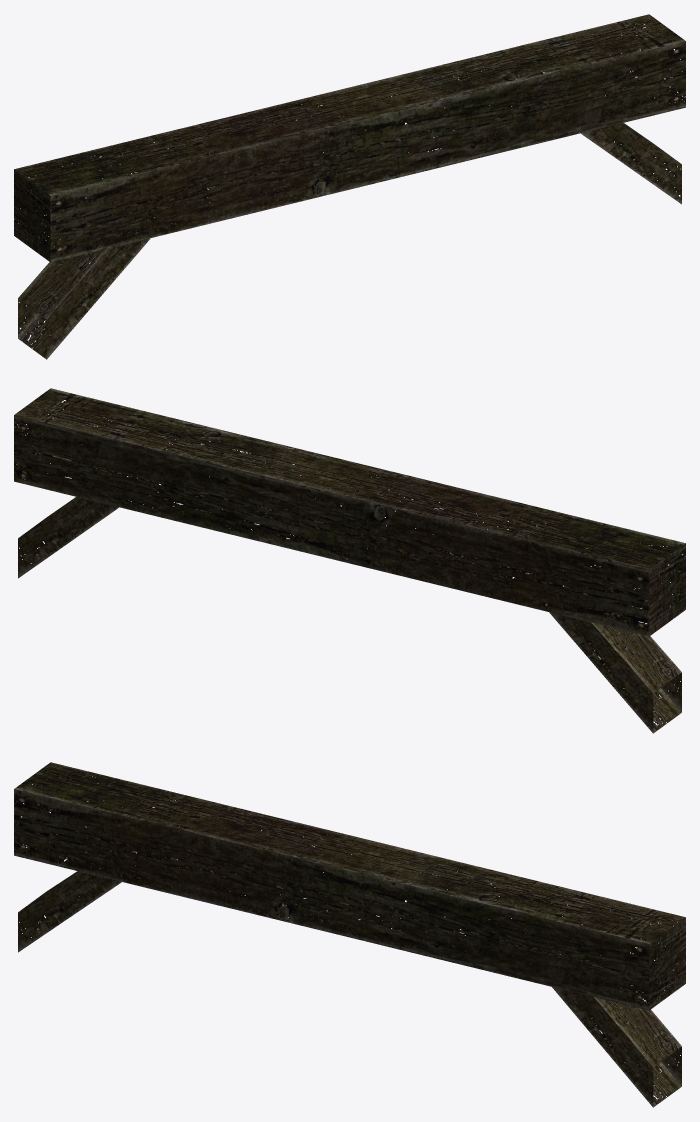
Rendered from welder_corridor_extension.dae.
3 views of the same model, one above another, from view 1: azimuth 30°, elevation 25°; view 2: azimuth 150°, elevation 25°; view 3: azimuth 330°, elevation 25° (orthographic).
Visible parts, largest first — view 1: polySurface6; view 2: polySurface6; view 3: polySurface6.
Boxes of the visible parts, x1=… form: polySurface6: x1=14, y1=14, x2=685, y2=359; polySurface6: x1=14, y1=388, x2=685, y2=733; polySurface6: x1=14, y1=762, x2=685, y2=1107.
Bounding box in the file's own units: 5 × 1.25 × 0.5.
